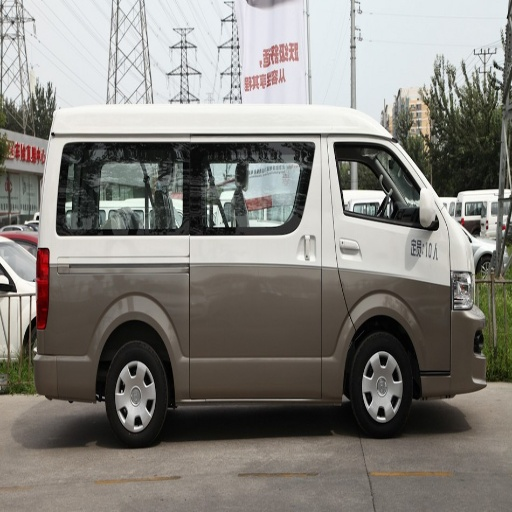back_right_door: (254, 138, 329, 217)
trunk: (36, 234, 479, 391)
